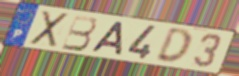3: (192, 32, 224, 70)
4: (125, 24, 157, 62)
A: (89, 20, 126, 57)
B: (60, 14, 98, 53)
D: (154, 28, 193, 66)
X: (28, 9, 70, 49)
